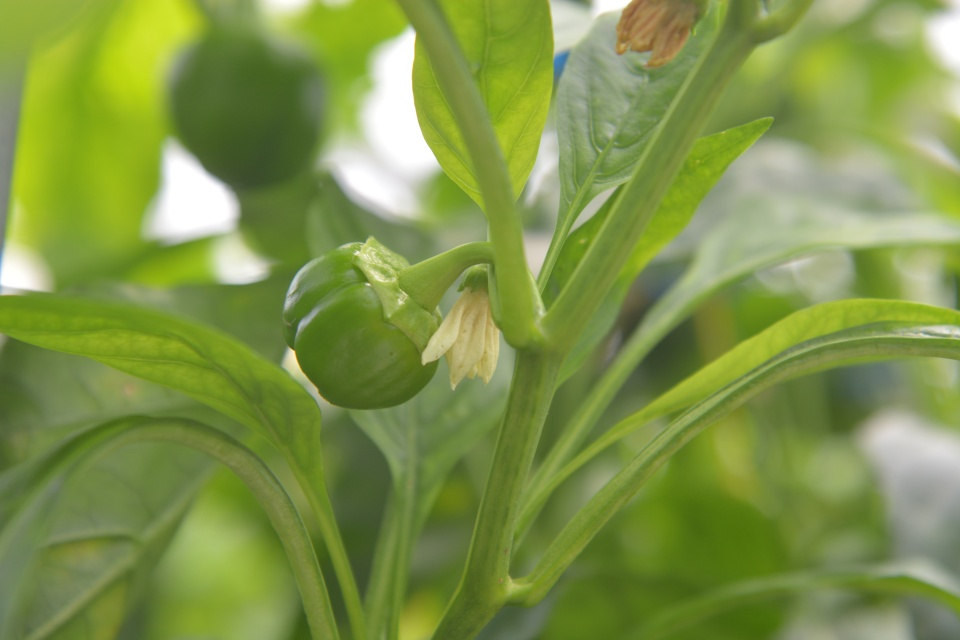flower: (417, 279, 506, 391)
immature: (278, 234, 445, 413), (158, 20, 328, 187)
